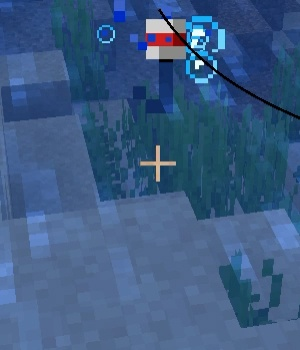up: (131, 12, 188, 115)
